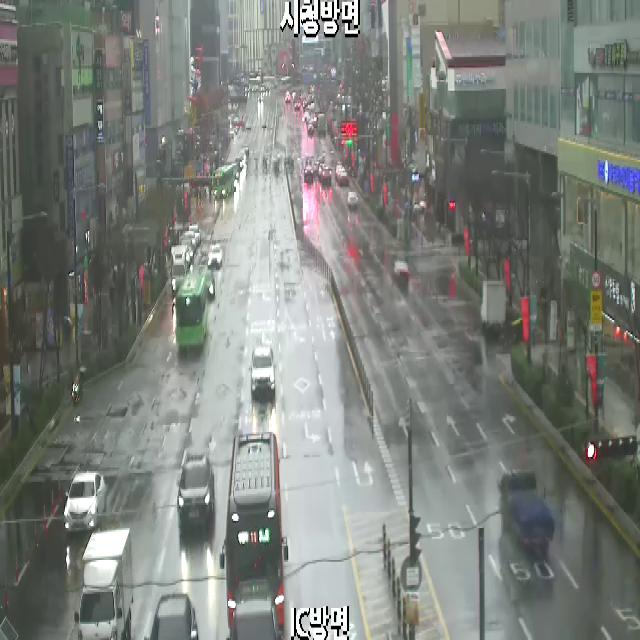Bus: (219, 432, 289, 632), (172, 274, 208, 347), (214, 165, 234, 199)
Car: (177, 453, 214, 525), (144, 594, 198, 640), (64, 473, 105, 532), (226, 599, 284, 640), (249, 346, 276, 397), (392, 254, 410, 282), (201, 268, 215, 298), (208, 244, 222, 270), (182, 240, 194, 261), (189, 226, 201, 245), (185, 231, 196, 249), (348, 192, 358, 208), (322, 168, 331, 184), (340, 173, 350, 187), (336, 162, 344, 178), (304, 166, 313, 180), (318, 164, 326, 178), (338, 170, 346, 182), (186, 246, 190, 267)
Truck: (74, 527, 134, 640), (497, 470, 556, 552), (480, 281, 506, 329), (170, 246, 190, 291)
